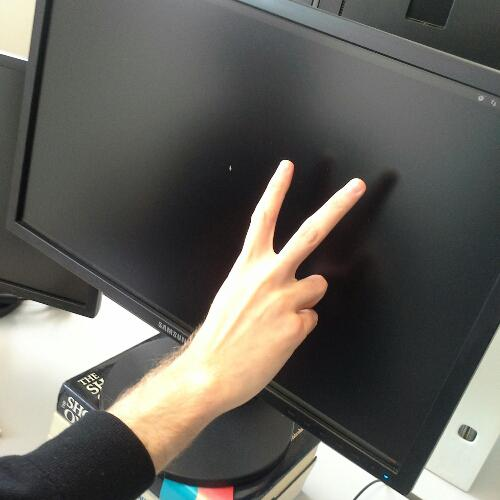scissors: (182, 155, 372, 402)
